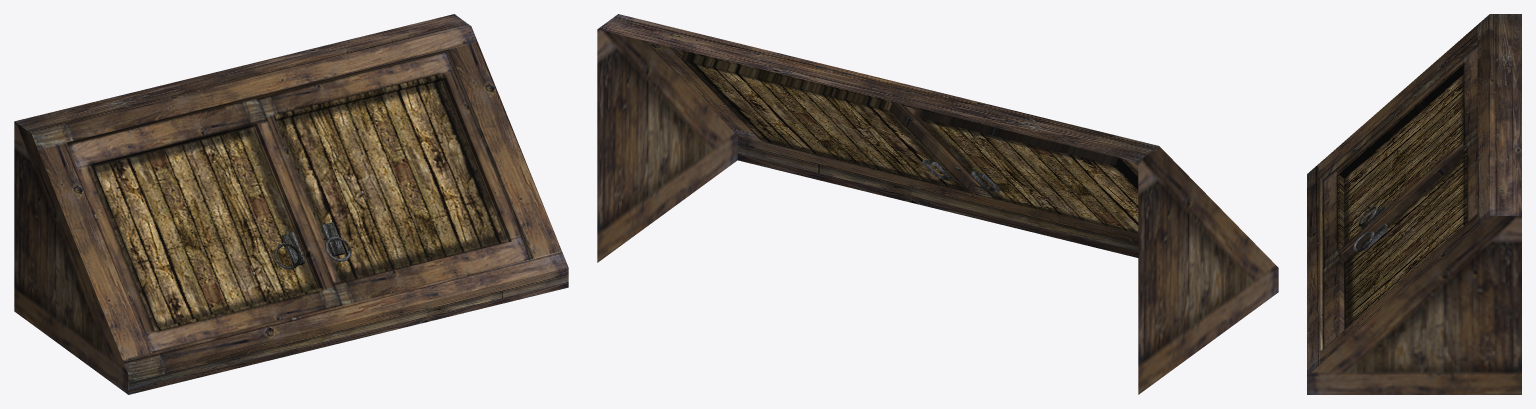
Rendered from cellarEntry.fbx.
3 views of the same model, side by side, from view 1: azimuth 30°, elevation 25°; view 2: azimuth 150°, elevation 25°; view 3: azimuth 270°, elevation 25° (orthographic). The views are drawn at different scales.
Visible parts, largest first — view 1: polySurface1941; view 2: polySurface1941; view 3: polySurface1941.
Boxes of the visible parts, bbox=[...] form: polySurface1941: bbox=[14, 14, 568, 394]; polySurface1941: bbox=[597, 14, 1278, 394]; polySurface1941: bbox=[1307, 14, 1521, 394].
Bounding box in the file's own units: 277 × 114 × 124.
